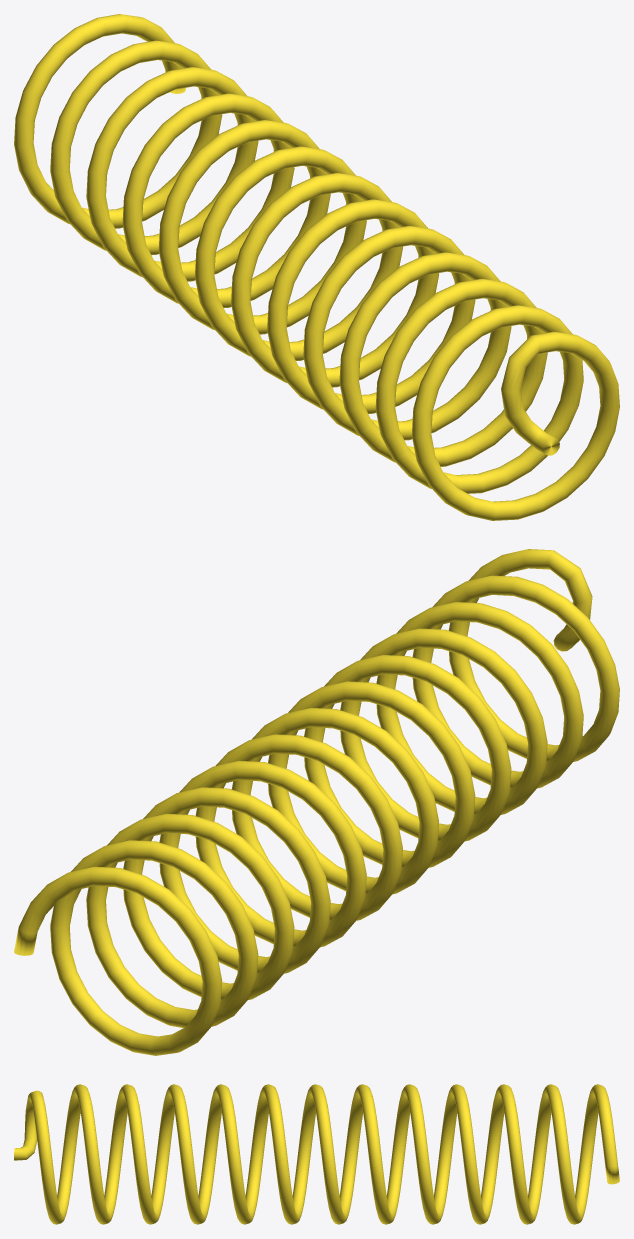
Rendered from BuffoonSpring.obj.
3 renders of one model, top to bottom at view 1: azimuth 30°, elevation 25°; view 2: azimuth 150°, elevation 25°; view 3: azimuth 270°, elevation 25°, orthographic. The views are drawn at different scales.
Visible parts, largest first — view 1: BuffoonSpring; view 2: BuffoonSpring; view 3: BuffoonSpring.
Part boxes in pixels (x1,y1,x2,y2): BuffoonSpring: (14,14,619,520); BuffoonSpring: (14,549,619,1055); BuffoonSpring: (14,1084,619,1224).
Bounding box in the file's own units: 0.11 × 0.11 × 0.4728.
